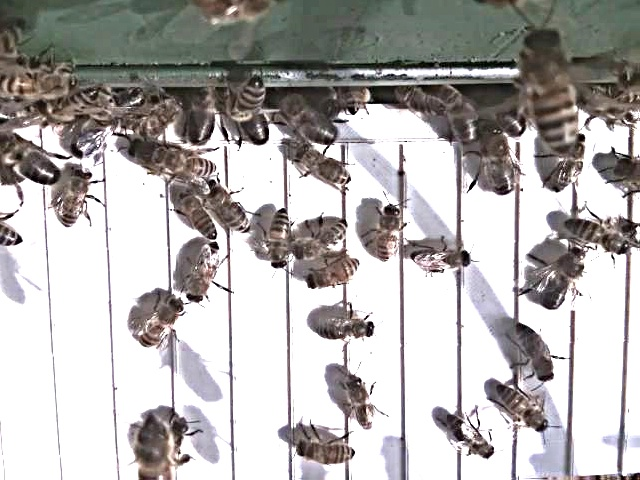Drone: (540, 245, 590, 315), (478, 120, 520, 202)
Worker: (498, 380, 553, 437), (514, 321, 560, 386), (561, 218, 634, 257), (138, 295, 186, 353), (443, 413, 500, 461), (183, 239, 223, 307), (206, 184, 256, 238), (154, 145, 223, 184), (293, 148, 358, 189), (58, 166, 98, 230), (296, 218, 353, 262), (179, 190, 221, 244), (295, 437, 358, 469), (413, 245, 476, 277), (346, 374, 379, 433), (306, 258, 363, 292), (373, 202, 402, 265), (266, 207, 293, 274), (318, 317, 379, 345)
